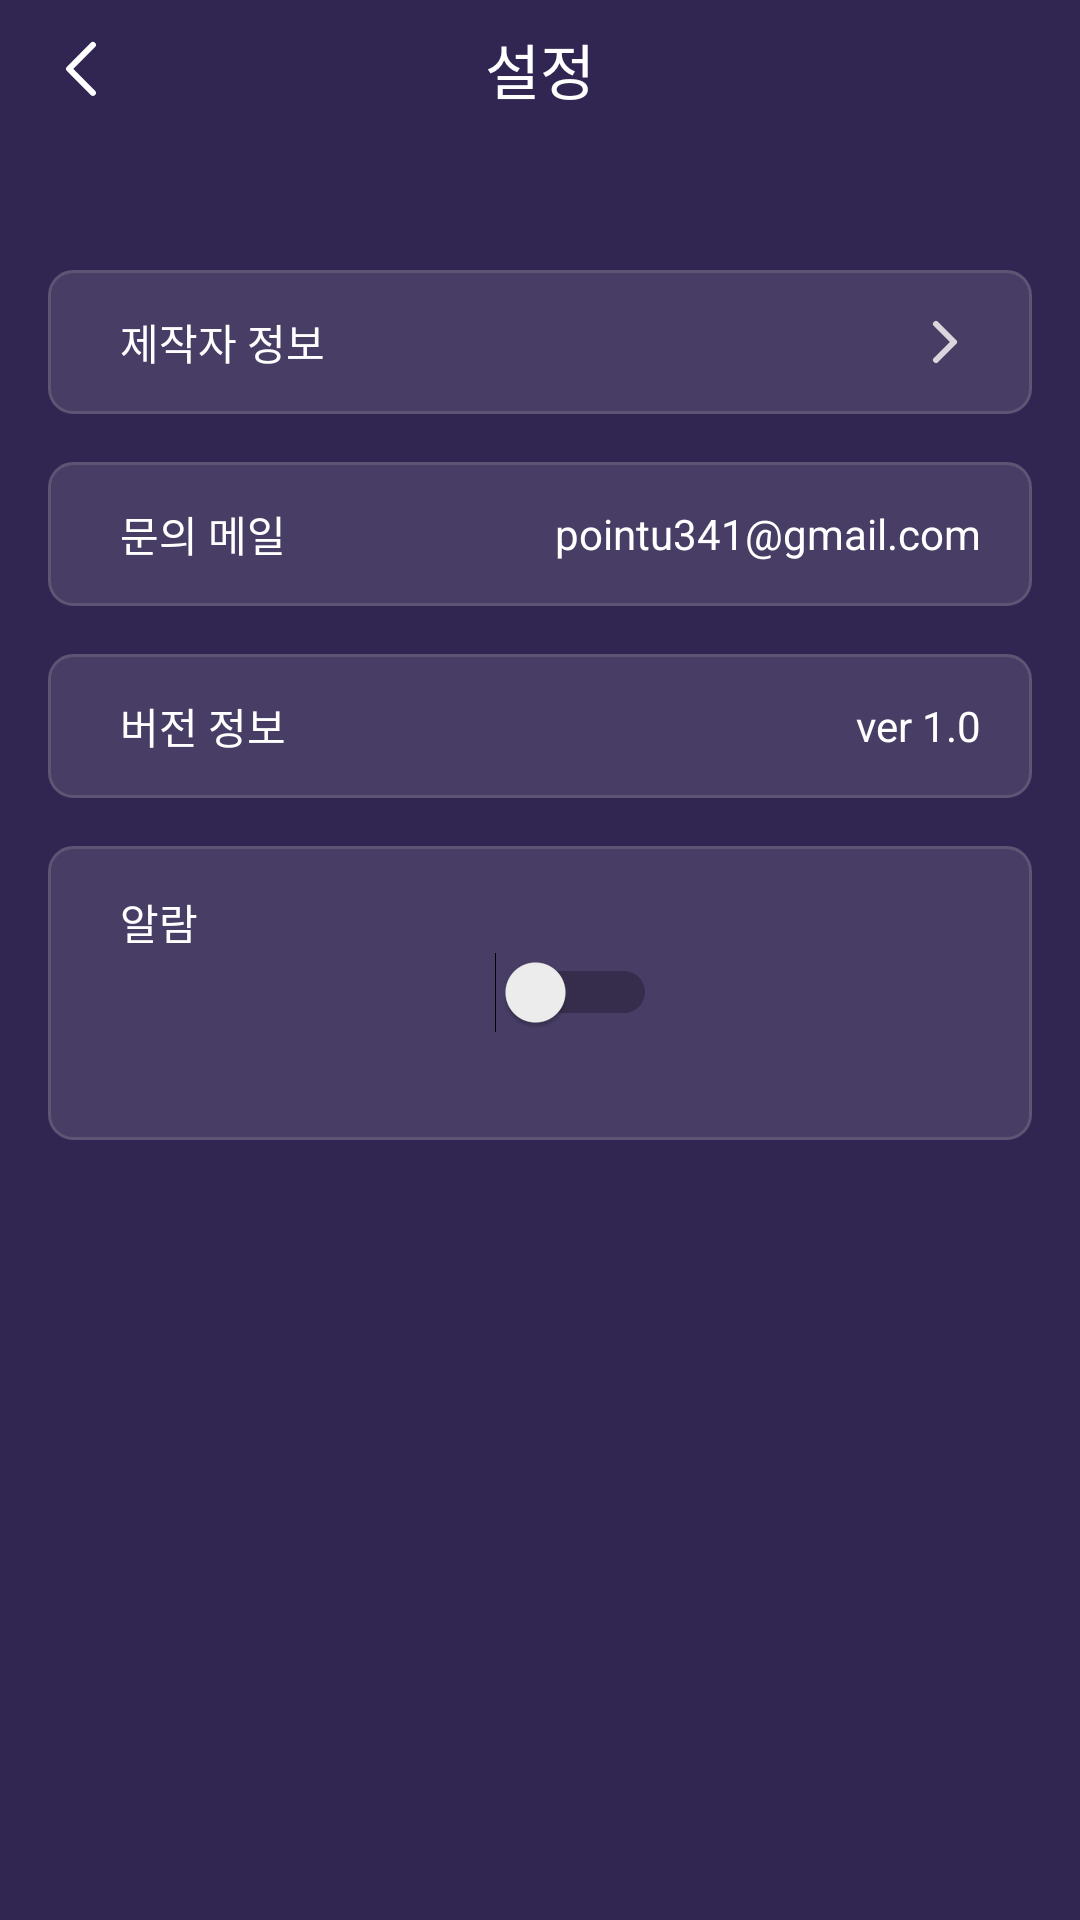

Where to tap for icons on this 1080 × 1920 app screen, as (x,y):
arrowleft: (81,68)
arrowright: (945,342)
